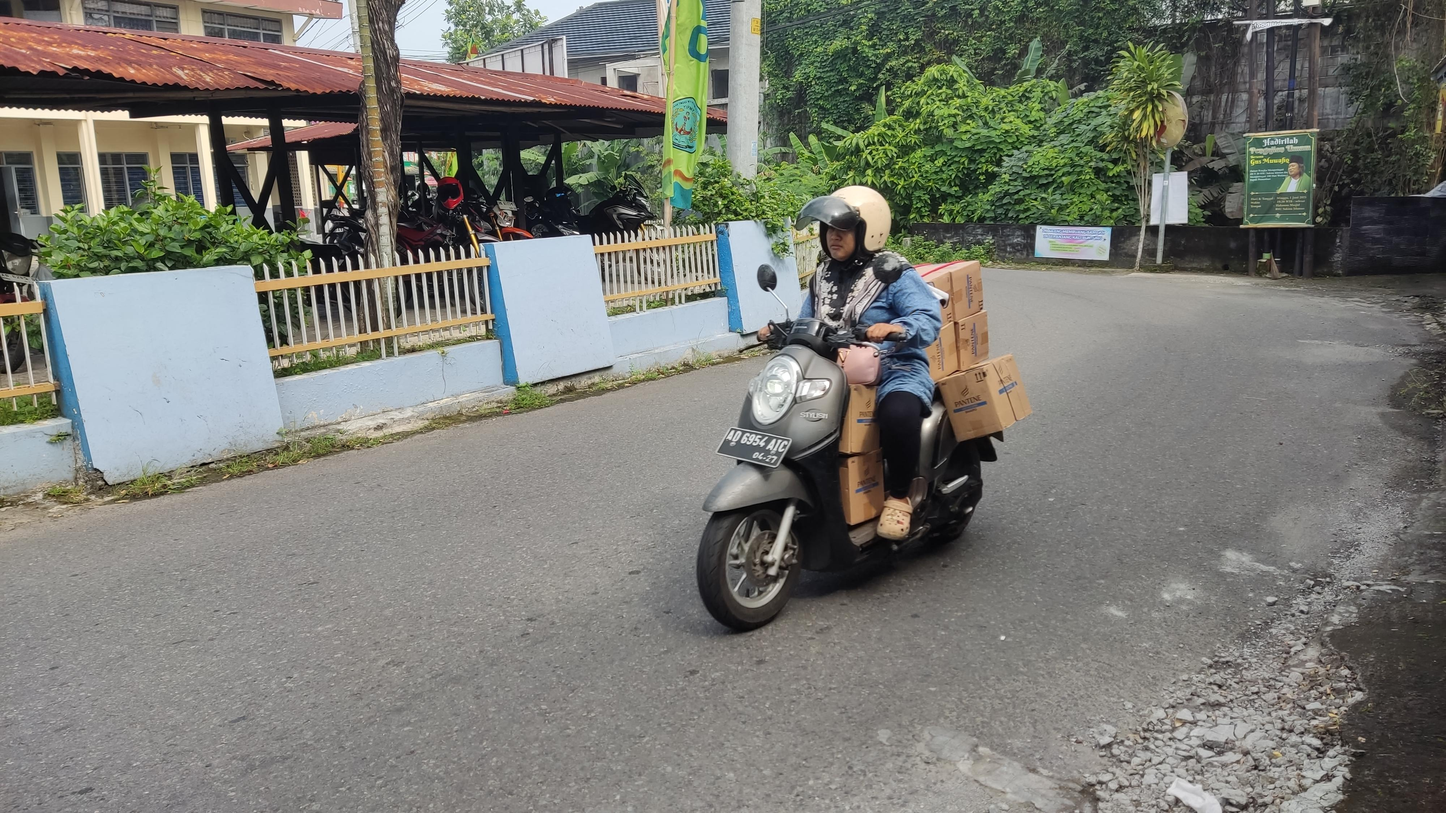helm: (794, 177, 901, 267)
riding: (676, 175, 1030, 646)
